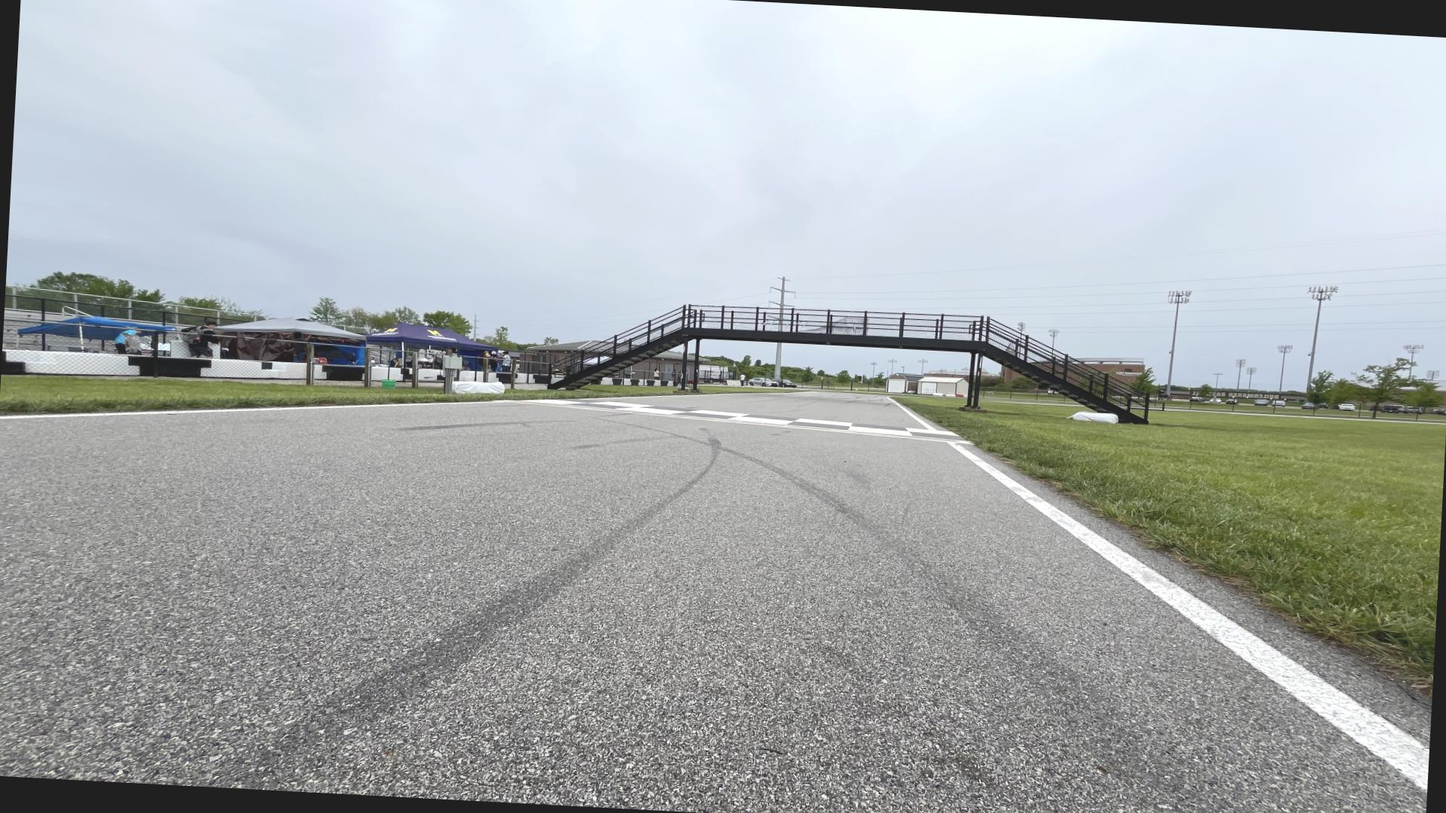white-line: (946, 442, 1429, 791), (0, 402, 502, 420), (886, 397, 935, 430), (581, 393, 752, 400)
